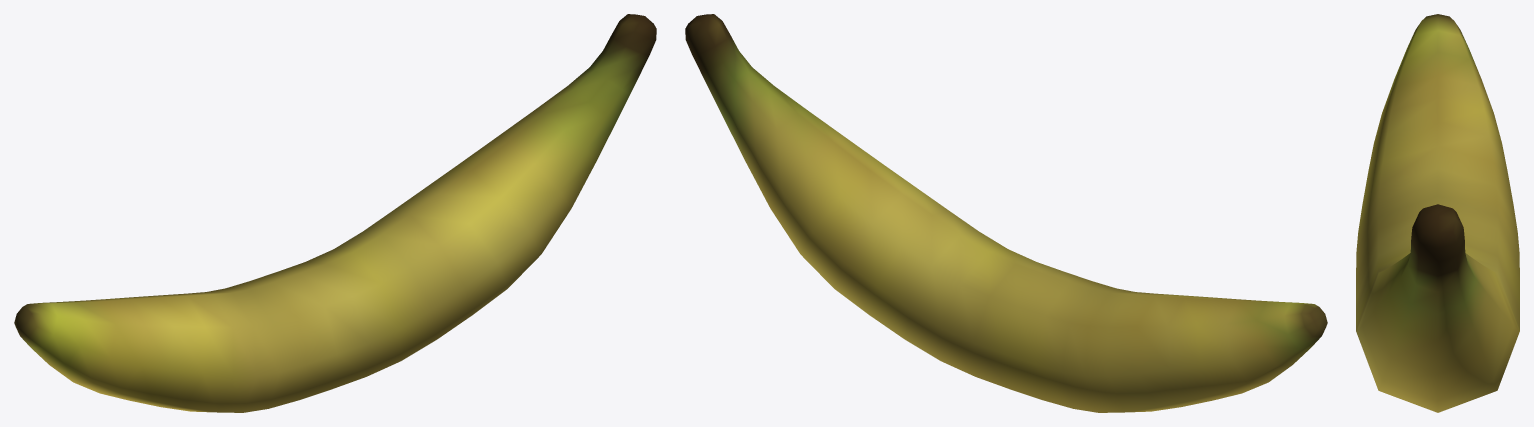
The model's file is Banana.glb.
3 views of the same model, side by side, from view 1: azimuth 30°, elevation 25°; view 2: azimuth 150°, elevation 25°; view 3: azimuth 270°, elevation 25° (orthographic). The views are drawn at different scales.
Parts seen in each view (by area): view 1: Cube; view 2: Cube; view 3: Cube.
Boxes of the visible parts, <box> form: Cube: <box>14,14,656,412</box>; Cube: <box>685,14,1327,412</box>; Cube: <box>1356,14,1519,412</box>.
Size of the model in its own units: 0.4865 by 0.2171 by 0.0858.
